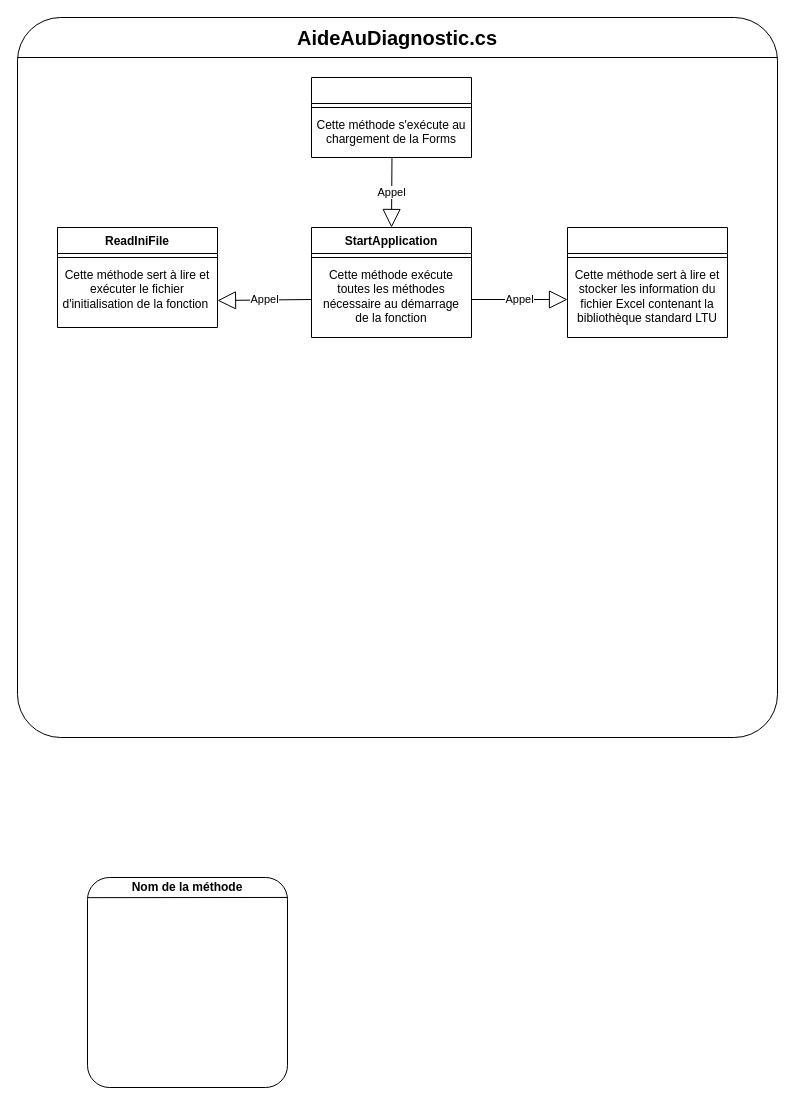
The diagram is 796 pixels wide and 1105 high, and some of its shapes have lost their labels. The shapes that lost their labels are listed below. From the top down, each one's box as (x1, y1, x2, y2) in pixels, then its label:
(310, 76, 472, 158): AideAuDiagnostic_Load
(566, 226, 728, 338): ReadExcel
